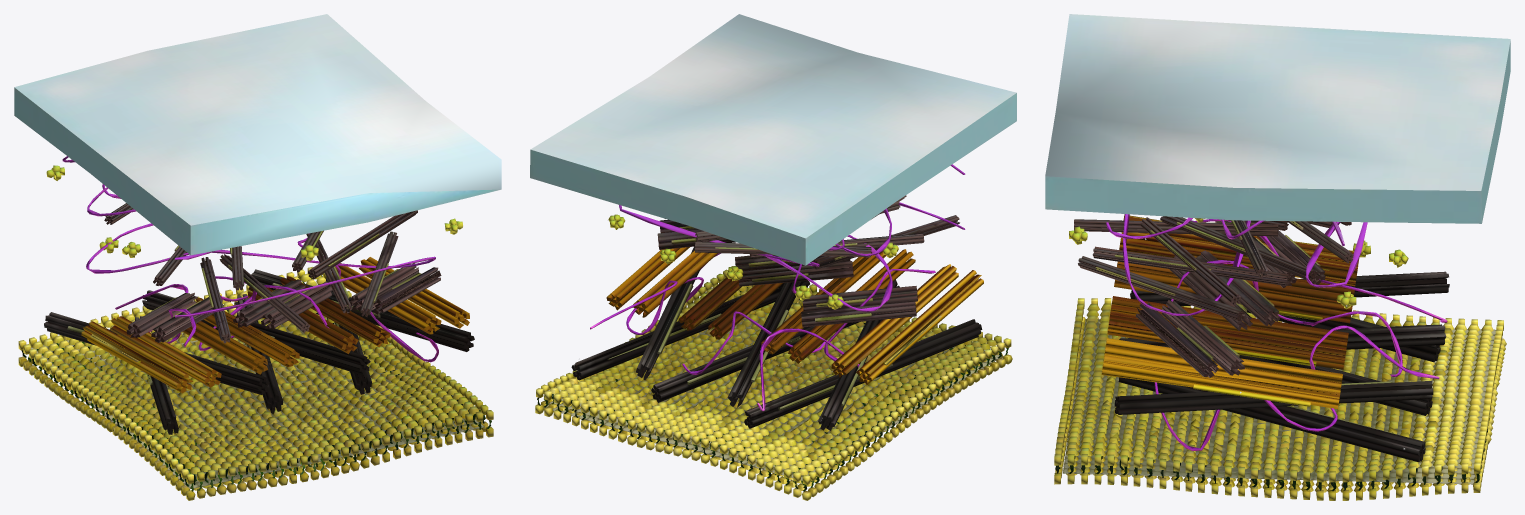
The model's file is modelo-ligero.glb.
3 views of the same model, side by side, from view 1: azimuth 30°, elevation 25°; view 2: azimuth 150°, elevation 25°; view 3: azimuth 270°, elevation 25° (orthographic). The views are drawn at different scales.
Visible parts, largest first — view 1: Object_22, Object_9, Object_16, Object_18, Object_20, Object_6, Object_15, Object_10, Object_14, Object_12, Object_8, Object_17 (+2 smaller); view 2: Object_22, Object_9, Object_16, Object_18, Object_15, Object_6, Object_20, Object_17, Object_12, Object_8, Object_13, Object_11 (+3 smaller); view 3: Object_22, Object_9, Object_16, Object_18, Object_20, Object_15, Object_6, Object_10, Object_14, Object_17, Object_12, Object_13 (+2 smaller).
Boxes of the visible parts, x1,y1,x2,y2 form: Object_22: [14, 14, 501, 255]; Object_9: [18, 267, 493, 483]; Object_16: [81, 257, 469, 393]; Object_18: [44, 269, 474, 434]; Object_20: [31, 305, 484, 488]; Object_6: [18, 356, 493, 500]; Object_15: [126, 263, 441, 342]; Object_10: [200, 231, 398, 343]; Object_14: [153, 210, 417, 290]; Object_12: [62, 156, 435, 317]; Object_8: [22, 326, 324, 491]; Object_17: [115, 233, 438, 362]; Object_22: [530, 14, 1016, 265]; Object_9: [536, 266, 1011, 484]; Object_16: [606, 247, 983, 384]; Object_18: [571, 246, 982, 430]; Object_15: [657, 219, 917, 327]; Object_6: [535, 286, 1012, 500]; Object_20: [543, 290, 1002, 480]; Object_17: [590, 253, 935, 411]; Object_12: [619, 164, 965, 311]; Object_8: [685, 331, 1008, 491]; Object_13: [695, 231, 871, 257]; Object_11: [608, 214, 898, 309]; Object_22: [1045, 14, 1510, 223]; Object_9: [1054, 298, 1503, 482]; Object_16: [1101, 215, 1359, 408]; Object_18: [1114, 271, 1449, 462]; Object_20: [1062, 319, 1495, 484]; Object_15: [1135, 220, 1325, 377]; Object_6: [1054, 317, 1506, 500]; Object_10: [1074, 219, 1289, 321]; Object_14: [1140, 216, 1351, 305]; Object_17: [1154, 219, 1447, 450]; Object_12: [1106, 214, 1367, 316]; Object_13: [1231, 220, 1353, 277].
Bounding box in the file's own units: 1.38 × 1.21 × 1.55.
Materials: 16 (15 with a texture image).
